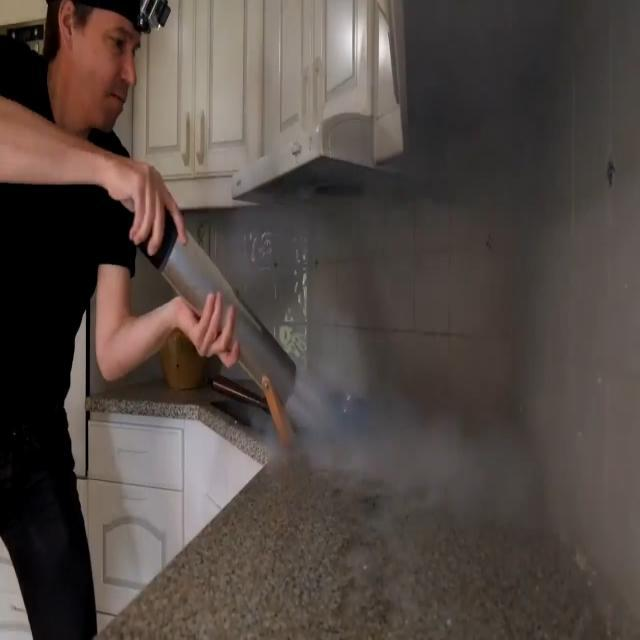Smoke: (298, 372, 537, 544)
